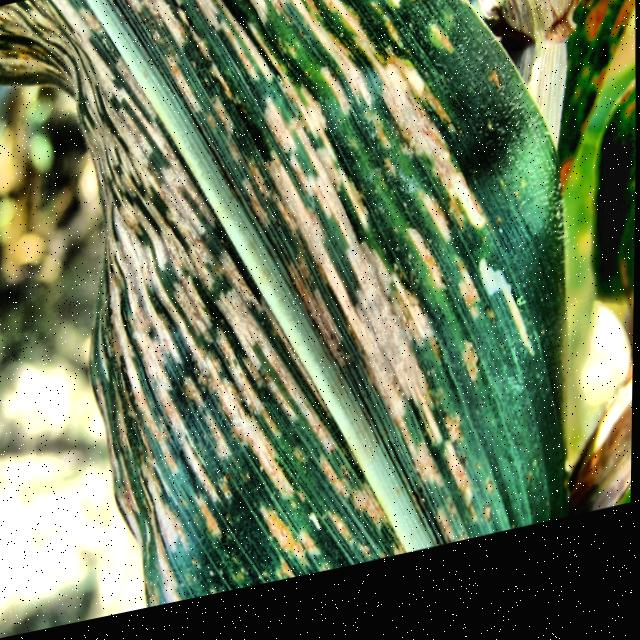gray_spot: (2, 0, 565, 609)
